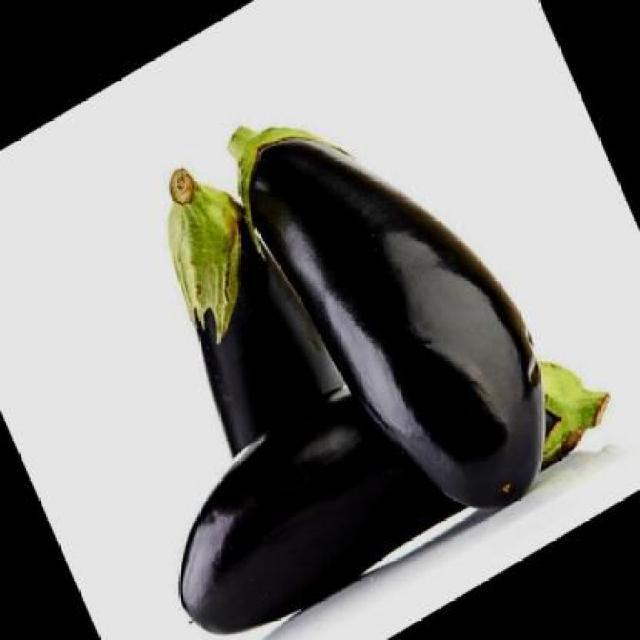eggplant: (210, 33, 587, 573), (138, 259, 624, 639), (119, 132, 353, 463)
